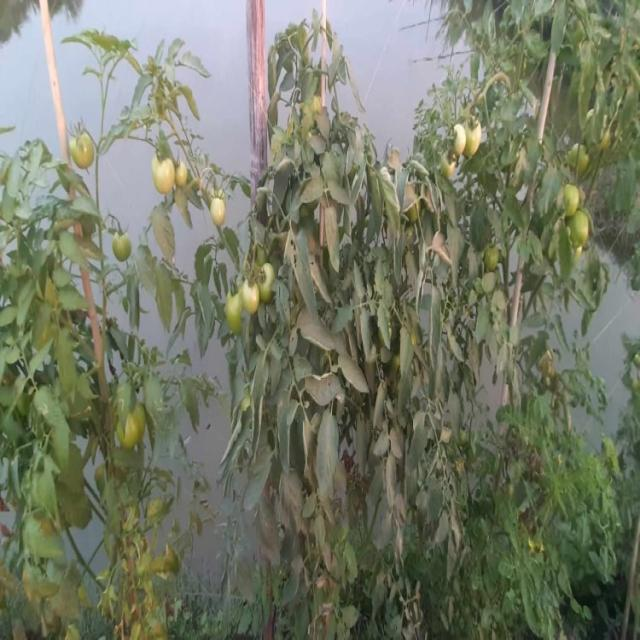tomato: (571, 213, 602, 257), (215, 285, 249, 324), (102, 232, 139, 267), (146, 155, 174, 198), (68, 121, 92, 171), (254, 264, 283, 303), (192, 190, 224, 224), (557, 179, 585, 216), (124, 398, 148, 437), (235, 273, 260, 304), (464, 123, 482, 153)
